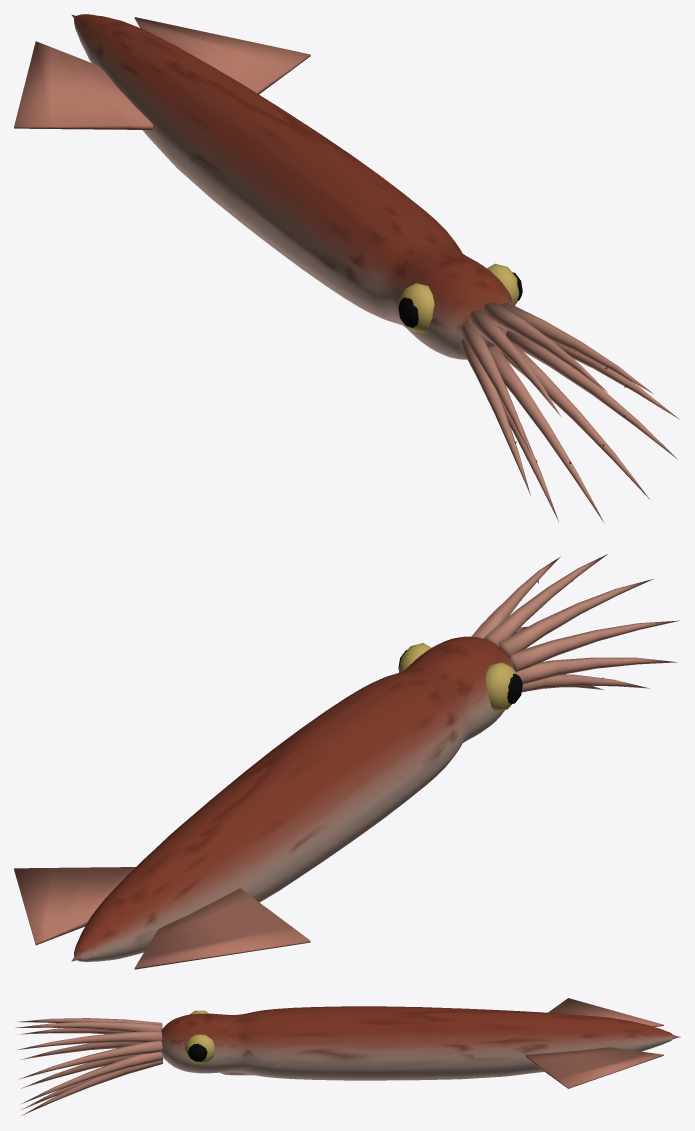
File: Belemnitella.fbx
The picture shows the model from 3 angles, top to bottom: view 1: azimuth 30°, elevation 25°; view 2: azimuth 150°, elevation 25°; view 3: azimuth 270°, elevation 25°; orthographic projection. The views are drawn at different scales.
Parts seen in each view (by area): view 1: Belemnitella; view 2: Belemnitella; view 3: Belemnitella.
Part boxes in pixels (x1=…): Belemnitella: x1=14, y1=14, x2=679, y2=522; Belemnitella: x1=14, y1=554, x2=679, y2=969; Belemnitella: x1=15, y1=998, x2=680, y2=1116.
Size of the model in its own units: 0.6001 by 0.314 by 1.88.
